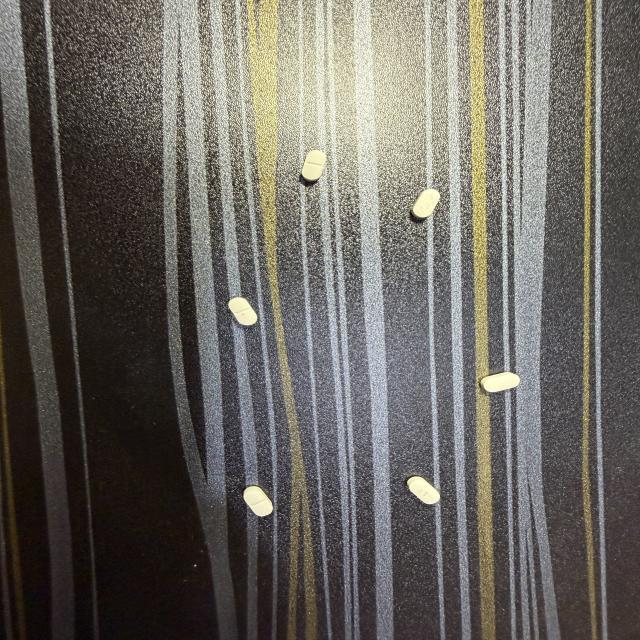pill: (244, 486, 273, 516), (407, 477, 439, 504), (412, 189, 439, 219), (229, 297, 257, 325), (481, 372, 519, 392), (302, 150, 326, 181)
